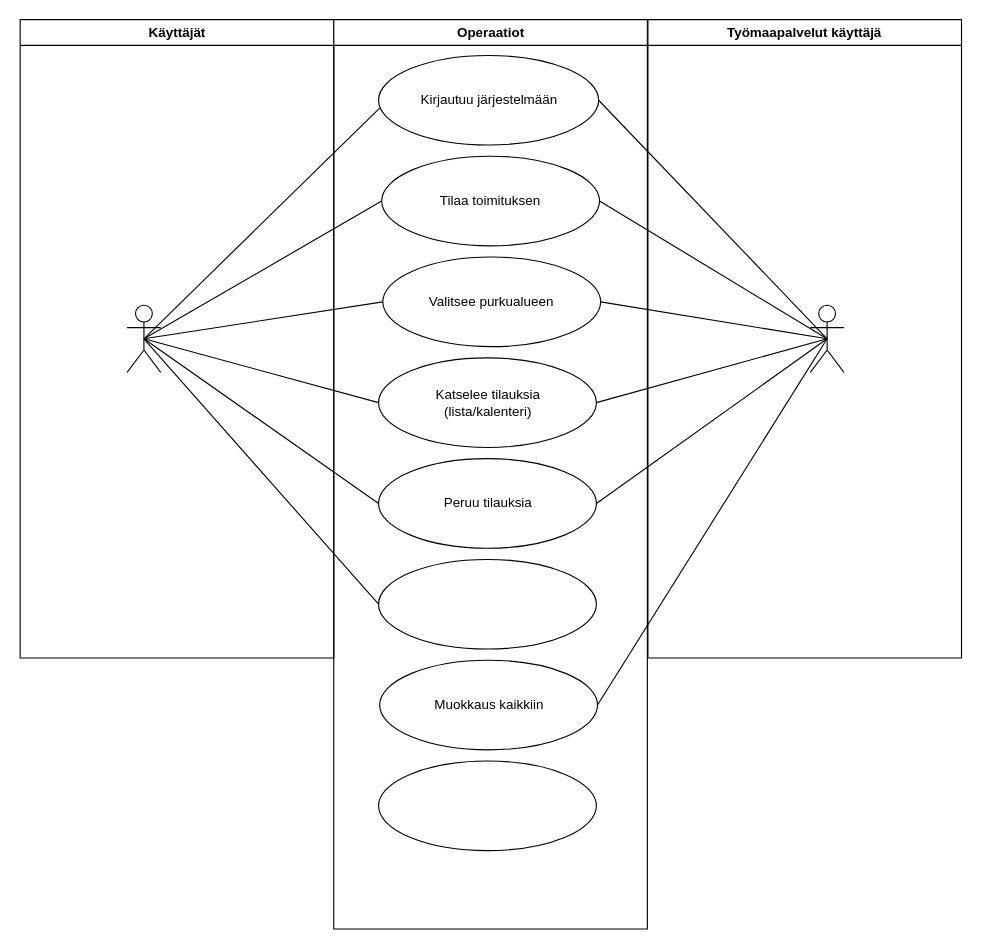
This 981x949 diagram has some shape labels left out. The shapes that lost their labels are listed below. From the top down, each one's centre as x and y in pixels, then its label:
At (143,338): "Tilaaja".
At (826,338): "Työmaapalvelut".
At (486,603): "Oikeus omiin sloteihin".
At (486,805): "Notifikaatioiden lähetys".
